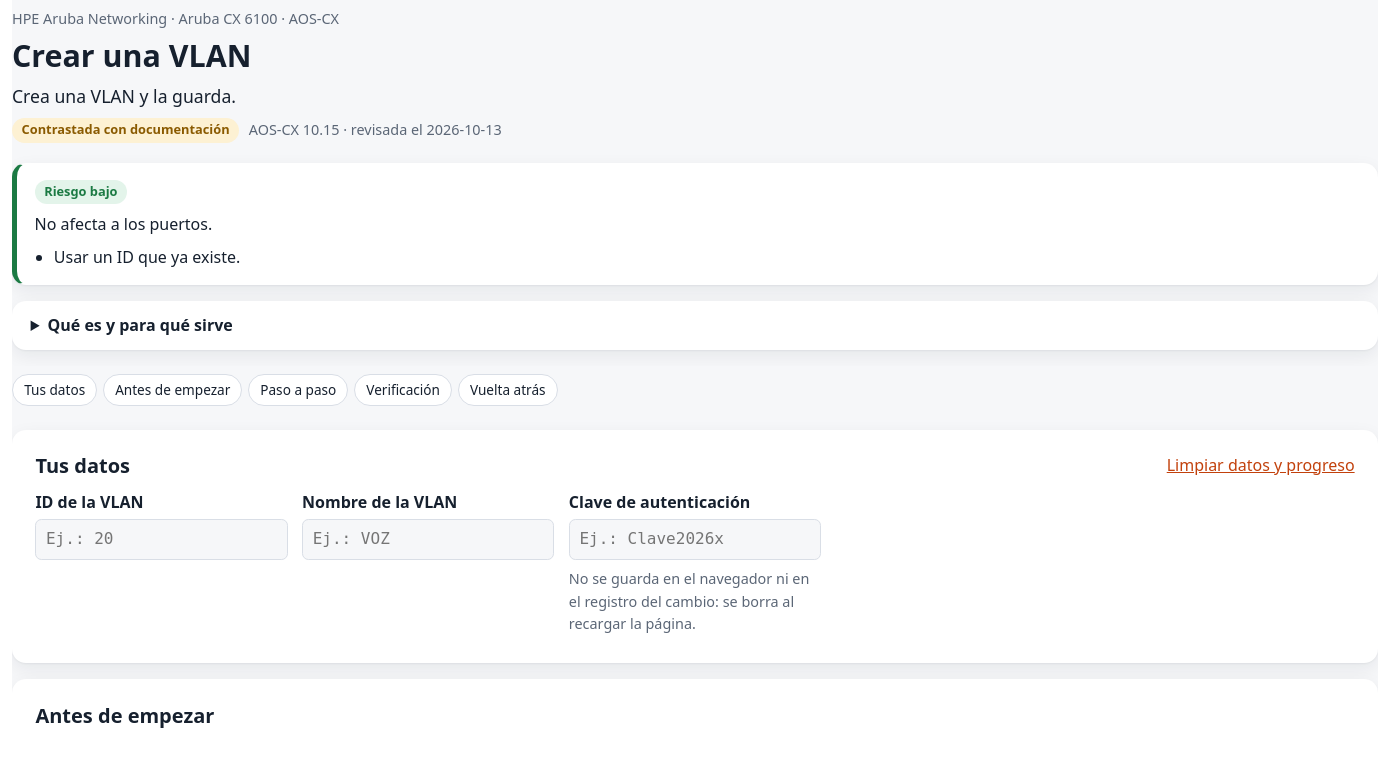
Test: RunbookPage › with a secret value › clears the secret on request
Type "S3cretoReal" into the field labelled "Clave de autenticación".
click(695, 540); type("S3cretoReal")  # box [569,519,821,560]
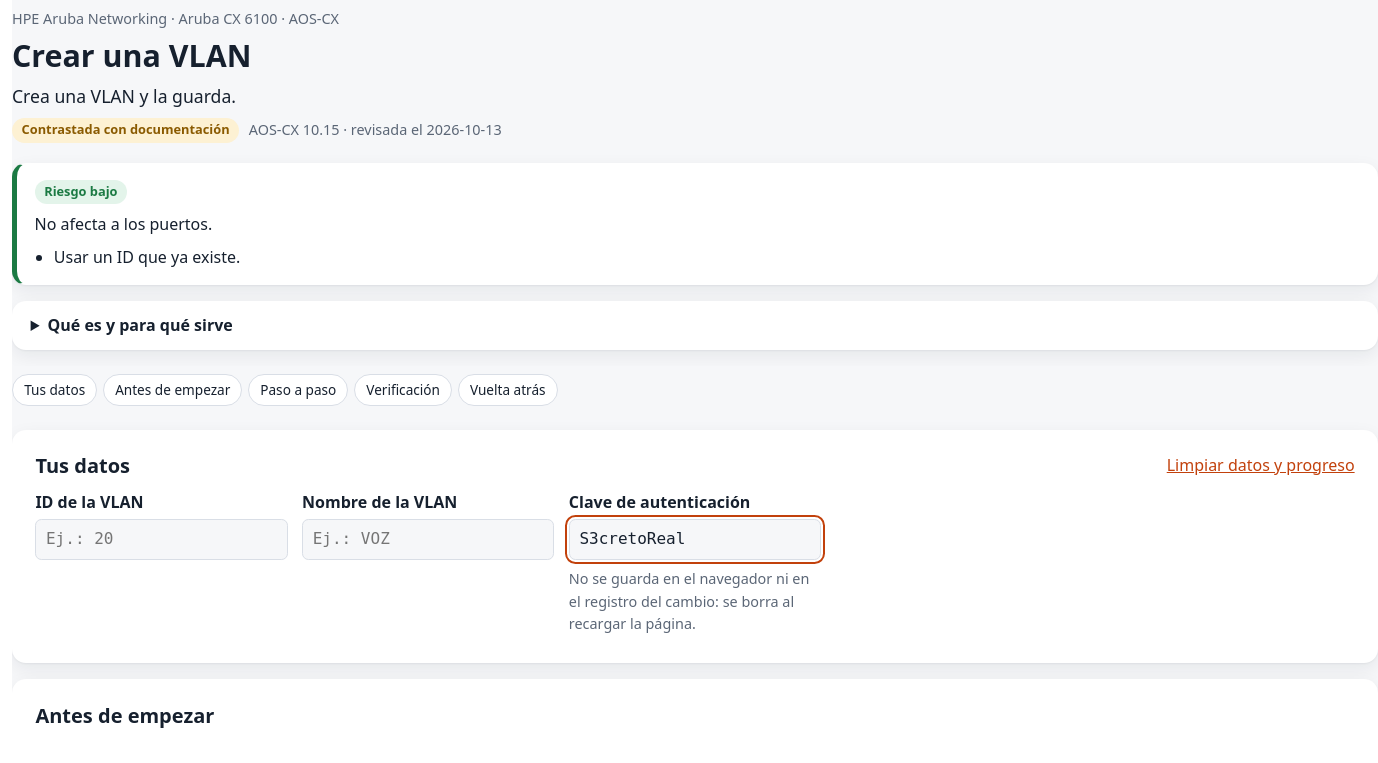
Click the button "Limpiar datos y progreso".
click(1261, 465)  # box [1167,453,1355,478]
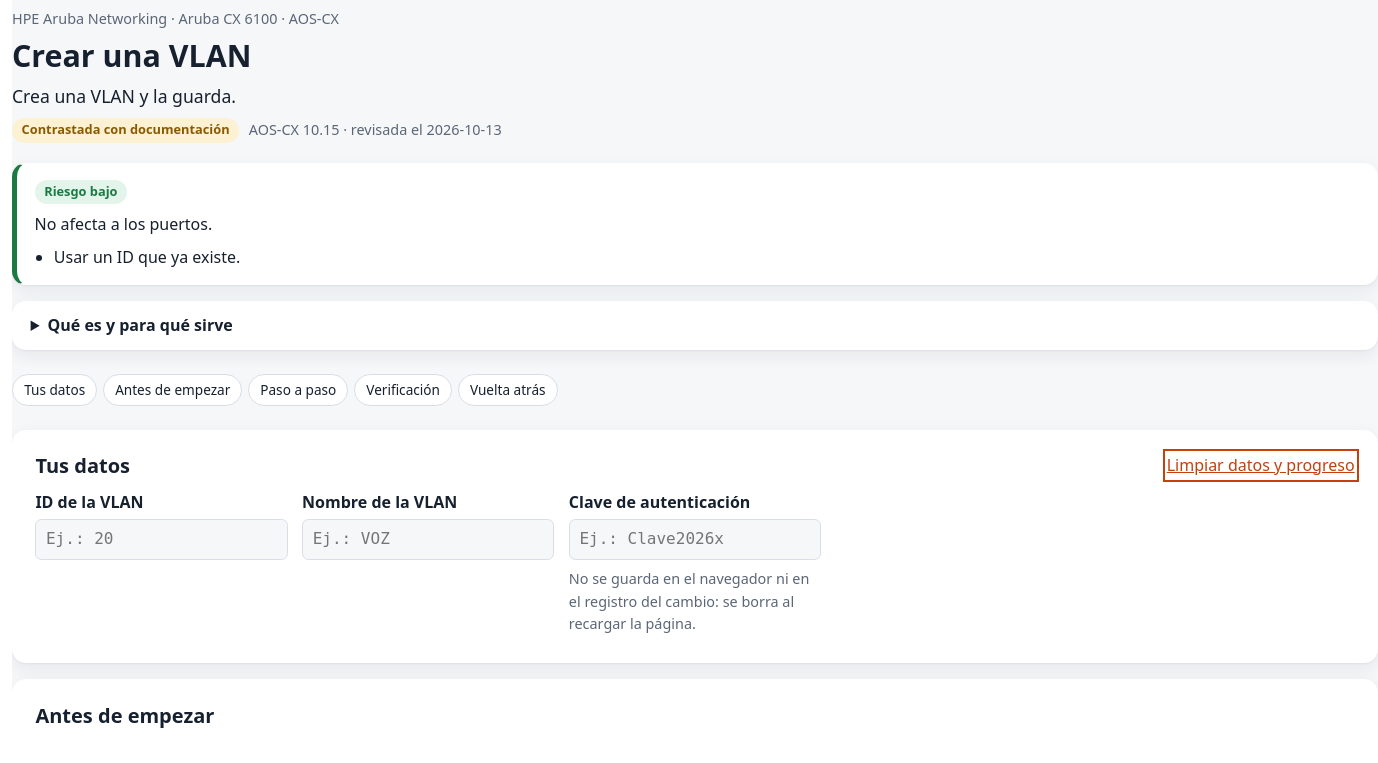
expect the field labelled "Clave de autenticación" is empty: met, box [569,519,821,560]
